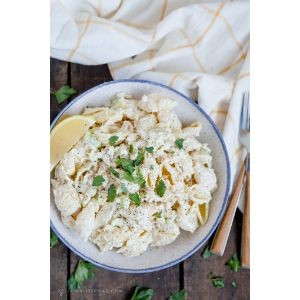tuna_brain food: (56, 99, 209, 263)
